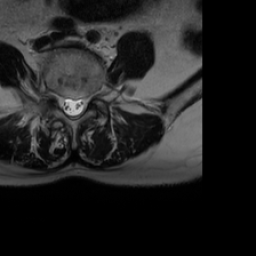CCS_normal: (69, 91, 77, 124)
LFS_normal: (86, 86, 94, 110)
LLS_normal: (77, 92, 85, 117)
RFS_normal: (52, 86, 60, 111)
RLS_normal: (60, 92, 69, 120)
